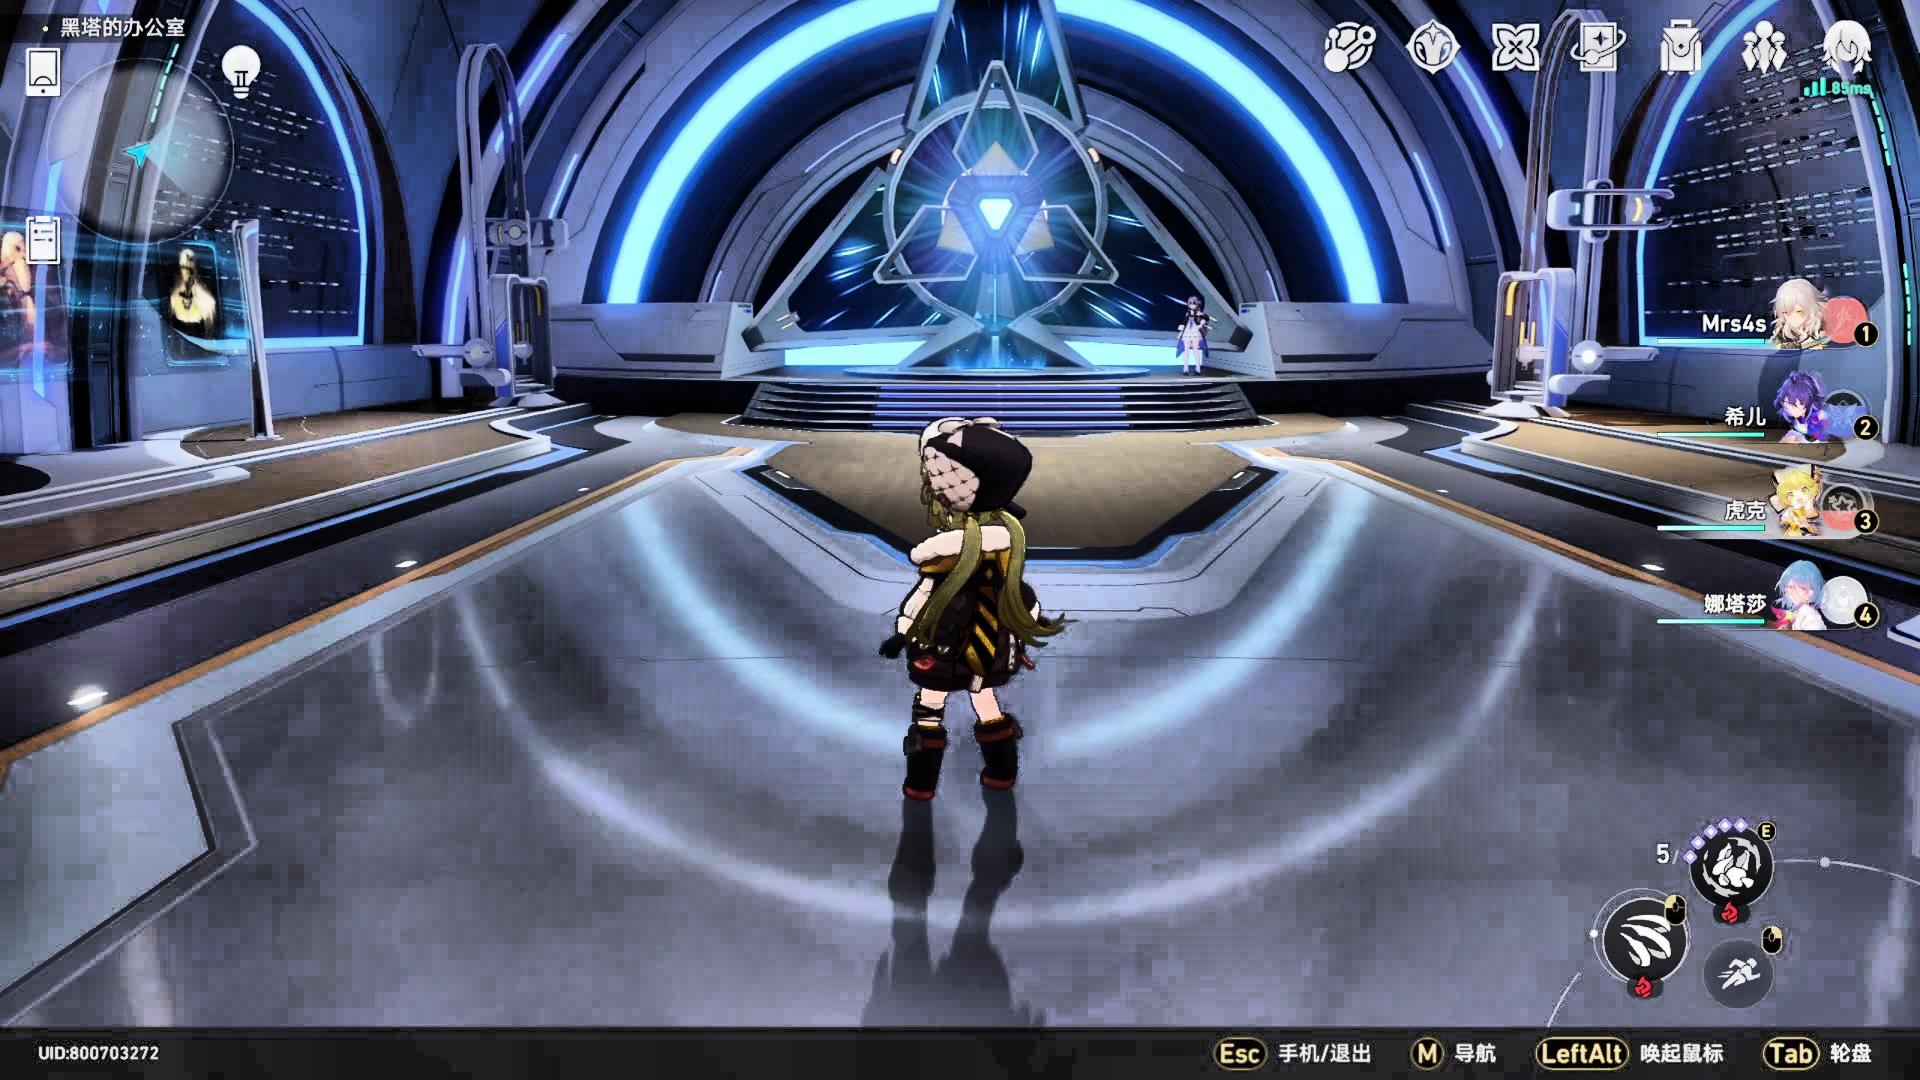Self: (878, 418, 1065, 800)
TeamMate: (1171, 294, 1216, 376)
